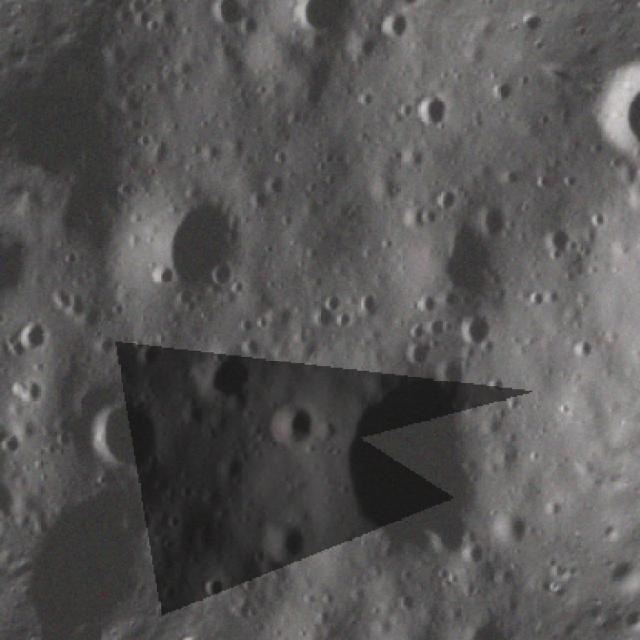crater: (302, 340, 544, 588), (140, 182, 260, 315), (71, 374, 184, 483), (571, 89, 640, 180), (190, 344, 255, 414), (259, 387, 323, 453), (0, 301, 62, 367), (278, 0, 362, 43), (263, 521, 314, 570), (187, 562, 239, 610), (450, 606, 518, 640), (12, 373, 54, 412), (209, 0, 252, 32), (0, 417, 29, 461)
